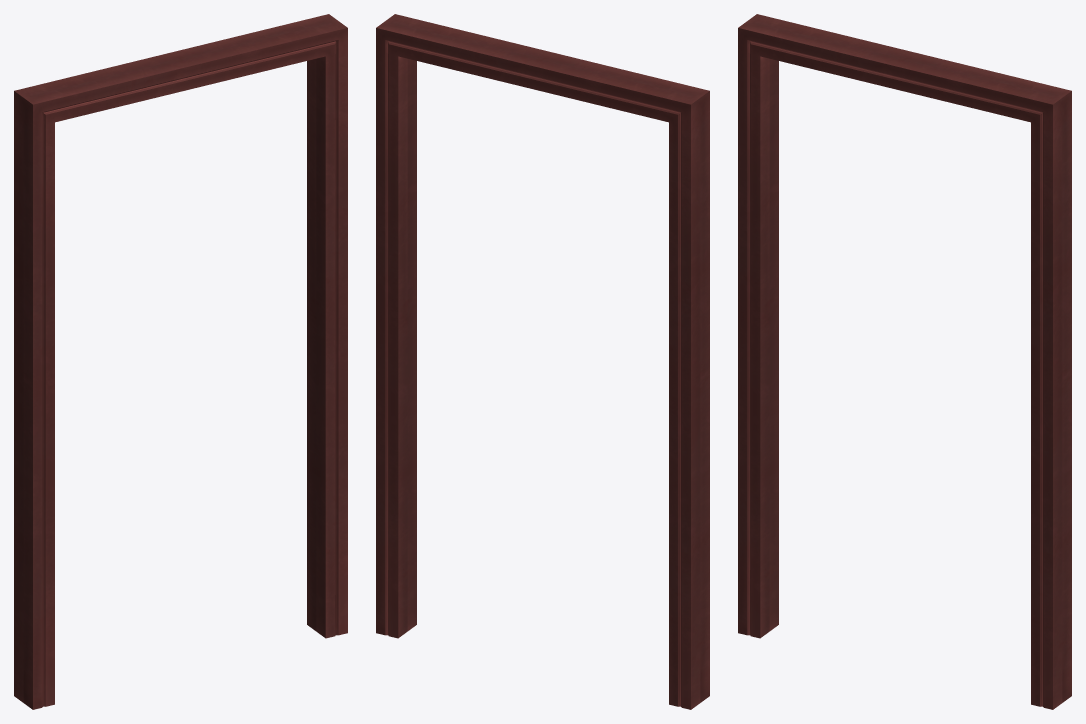
File: SM_Door_Frame_A.fbx
3 renders of one model, left to right at view 1: azimuth 30°, elevation 25°; view 2: azimuth 150°, elevation 25°; view 3: azimuth 330°, elevation 25°, orthographic.
Visible parts, largest first — view 1: SM_Door_Frame_A_LOD0; view 2: SM_Door_Frame_A_LOD0; view 3: SM_Door_Frame_A_LOD0.
Part boxes in pixels (x1,y1,x2,y2): SM_Door_Frame_A_LOD0: (14,14,347,709); SM_Door_Frame_A_LOD0: (376,14,709,709); SM_Door_Frame_A_LOD0: (738,14,1071,709).
Bounding box in the file's own units: 162 × 16.87 × 298.
1 material, 1 textured.
